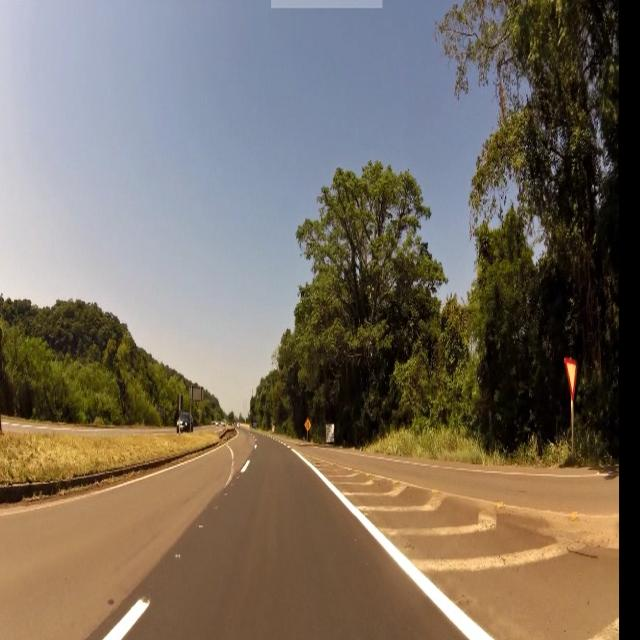R-2: (560, 354, 586, 399)
